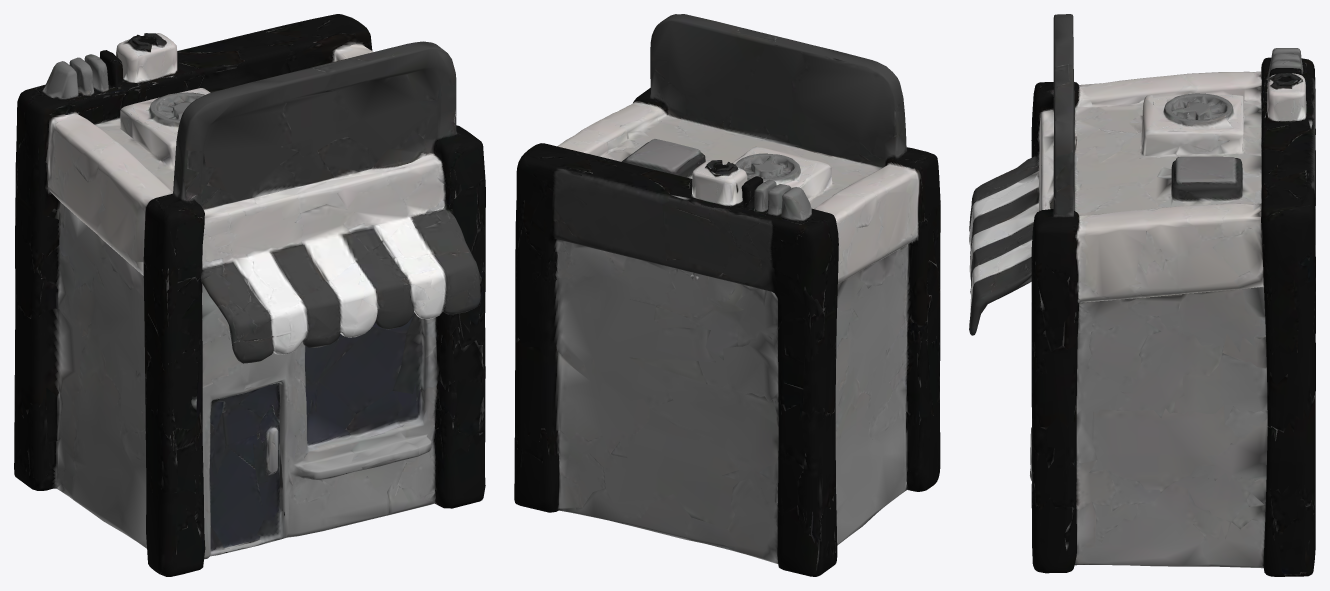
File: market-dark.glb
The picture shows the model from 3 angles, left to right: view 1: azimuth 30°, elevation 25°; view 2: azimuth 150°, elevation 25°; view 3: azimuth 270°, elevation 25°; orthographic projection. The views are drawn at different scales.
Bounding box in the file's own units: 1.48 × 1.9 × 1.37.
Materials: 1 (1 with a texture image).
